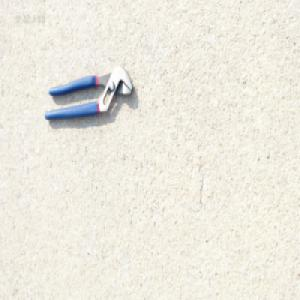Pliers: (45, 64, 135, 122)
